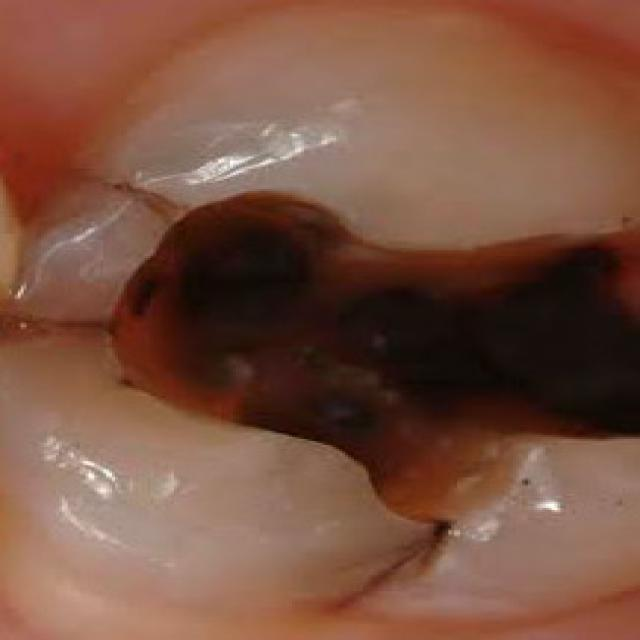Carrier: (100, 173, 640, 538)
